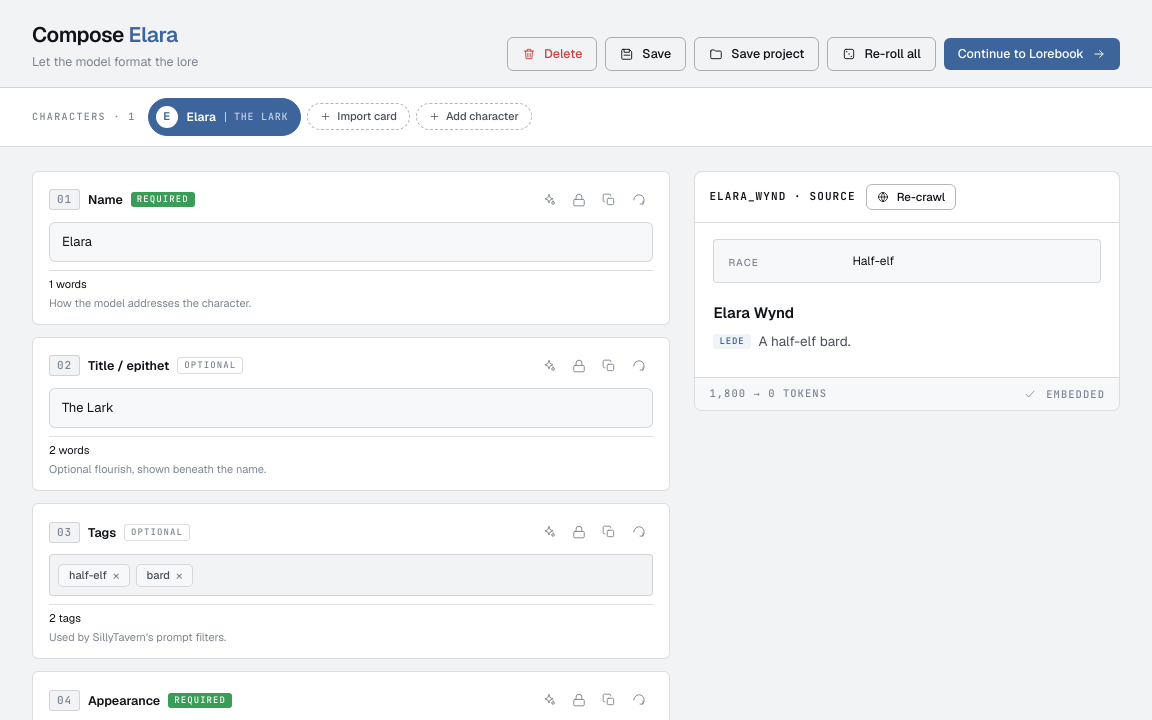
Test case: EditorScreen › handles save error gracefully
What coordinates should you click on to do the following:
click the button "Save"
I would click on:
 (646, 54)
Its box is [605,37,686,71].
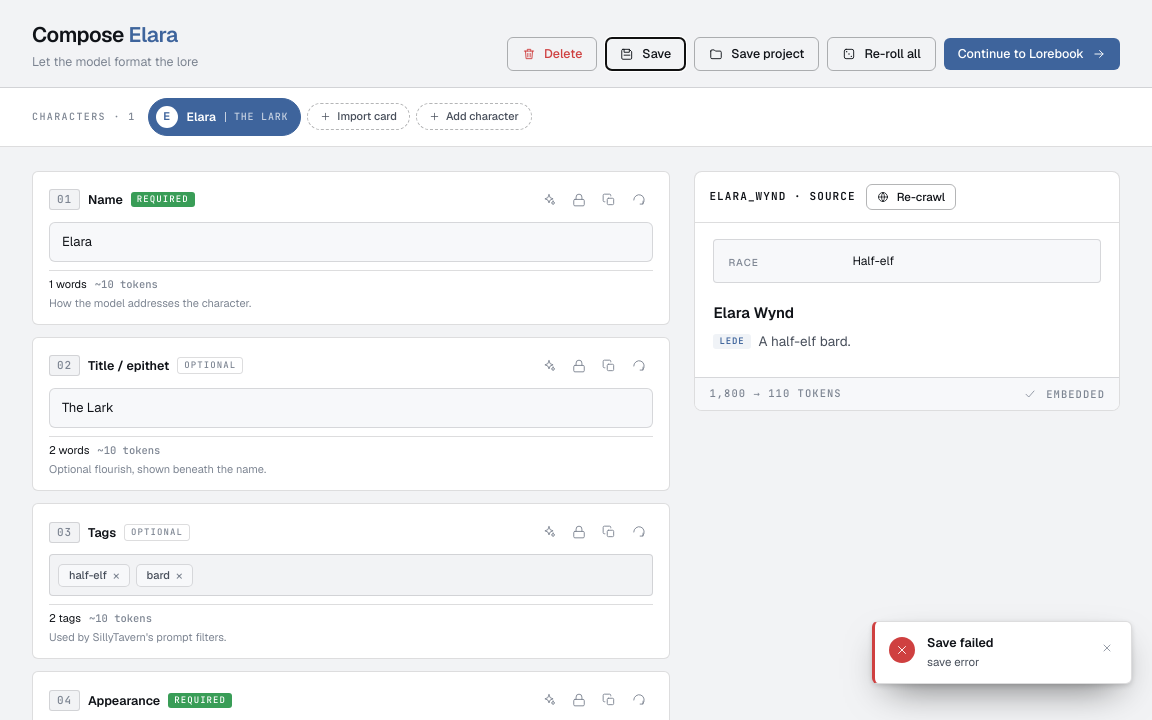
Expected: the text "Save failed" is shown, [927,634,994,651]
